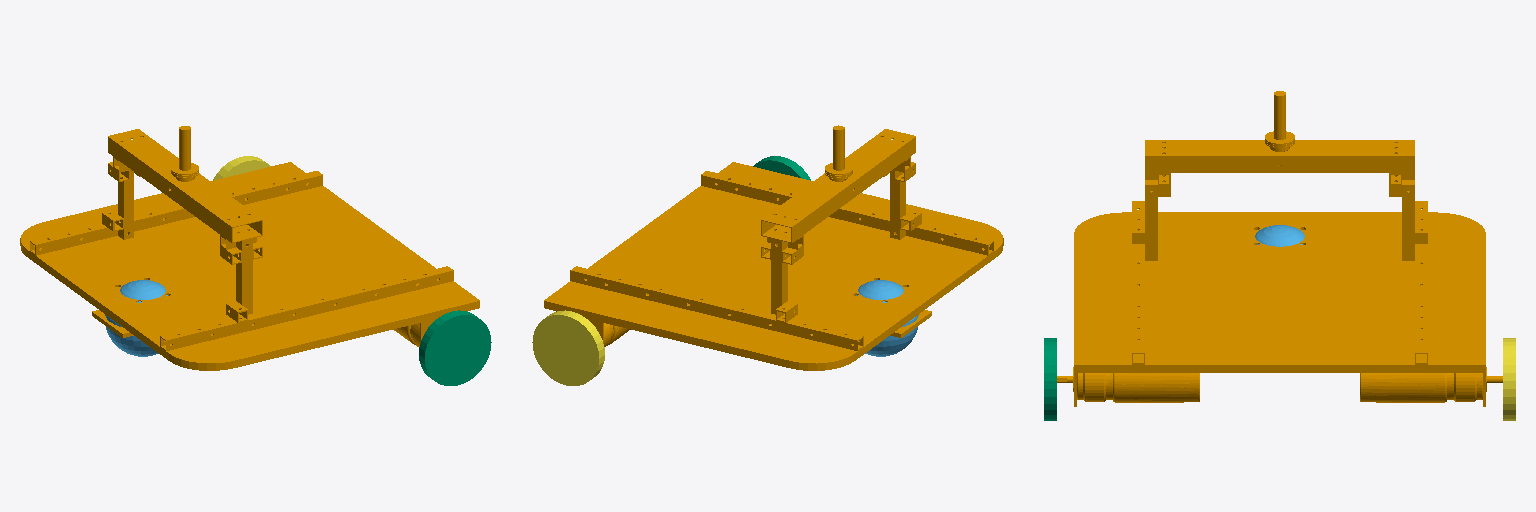
robot.urdf — icart_second:
<?xml version="1.0"?>
<robot name="icart_second">
  <!--visual&collision define-->
  <!--icart_body-->
  <link name="base_link_second">
    <visual>
      <geometry>
        <mesh filename="package://icart_description/mesh/DAE/i-Cart_body.dae"/>
      </geometry>
    </visual>

    <collision>
      <geometry>
        <mesh filename="package://icart_description/mesh/DAE/i-Cart_body.dae"/>
      </geometry>
    </collision>

    <inertial>
      <origin xyz="0 0 0"/>
      <mass value="0.000"/>
      <!--<inertia ixx="0.0020833333" ixy="0" ixz="0" iyy="0.0070833333" iyz="0" izz="0.0083333333"/>-->
      <inertia ixx="0" ixy="0" ixz="0" iyy="0" iyz="0" izz="0"/>
    </inertial>
  </link>

  <!--icart_caster-->
  <link name="caster_link_second">
    <visual>
      <geometry>
        <!--<mesh filename="package://icart_description/mesh/DAE/i-Cart_caster.dae"/>-->
        <sphere radius="0.0325"/>
      </geometry>
    </visual>

    <collision>
      <geometry>
        <mesh filename="package://icart_description/mesh/DAE/i-Cart_caster.dae"/>
      </geometry>
    </collision>

    <inertial>
      <origin xyz="0 0 0"/>
      <mass value="5.500"/>
      <inertia ixx="0.00025" ixy="0" ixz="0" iyy="0.00025"  iyz="0" izz="0.00025"/>
     </inertial>
  </link>

  <!--icart_right_wheel-->
  <link name="right_wheel_link_second">
    <visual>
      <geometry>
        <!--<mesh filename="package://icart_description/mesh/DAE/i-Cart_right_wheel.dae"/>-->
        <cylinder radius="0.0325" length="0.01"/>
      </geometry>
      <origin xyz="0 0 0" rpy="0 0 0"/>
      <material name="black"/>
    </visual>

    <collision>
      <geometry>
        <!--<mesh filename="package://icart_description/mesh/DAE/i-Cart_right_wheel.dae"/>-->
        <cylinder radius="0.0325" length="0.01"/>
      </geometry>
    </collision>

    <inertial>
      <origin xyz="0 0 0"/>
      <mass value="10.500"/>
      <inertia ixx="0.0013541667" ixy="0" ixz="0" iyy="0.0013541667" iyz="0" izz="0.0025"/>
   </inertial>
  </link>

  <!--icart_left_wheel-->
  <link name="left_wheel_link_second">
    <visual>
      <geometry>
        <!--<mesh filename="package://icart_description/mesh/DAE/i-Cart_left_wheel.dae"/>-->
        <cylinder radius="0.0325" length="0.01"/>
      </geometry>
      <origin xyz="0 0 0" rpy="0 0 0"/>
      <material name="black"/>
    </visual>

    <collision>
      <geometry>
        <!--<mesh filename="package://icart_description/mesh/DAE/i-Cart_left_wheel.dae"/>-->
        <cylinder radius="0.0325" length="0.01"/>
      </geometry>
    </collision>

    <inertial>
      <origin xyz="0 0 0"/>
      <mass value="10.500"/>
      <inertia ixx="0.0013541667" ixy="0" ixz="0" iyy="0.0013541667" iyz="0" izz="0.0025"/>
   </inertial>
  </link>

  <!-- Hokuyo Laser -->
  <link name="hokuyo_link_second">

    <!--
    <collision>
      <origin xyz="0 0 0" rpy="0 0 0"/>
      <geometry>
        <box size="0.1 0.1 0.1"/>
      </geometry>
    </collision>
  -->

    <visual>
      <origin xyz="0 0 0" rpy="0 0 3.14"/>
      <geometry>
        <mesh filename="package://rrbot_description/meshes/hokuyo.dae"/>
      </geometry>
    </visual>

    <inertial>
      <mass value="1e-5" />
      <origin xyz="0 0 0" rpy="0 0 3.14"/>
      <inertia ixx="1e-6" ixy="0" ixz="0" iyy="1e-6" iyz="0" izz="1e-6" />
    </inertial>
  </link>


  <!--joint define-->
  <!--base_link to caster-->
  <joint name="caster_joint_second" type="fixed">
    <parent link="base_link_second"/>
    <child link="caster_link_second"/>
    <origin xyz="-0.096 0 -0.019" rpy="0 0 0"/>
  </joint>

  <!--base_link to left_wheel-->
  <joint name="left_wheel_joint_second" type="continuous">
    <parent link="base_link_second"/>
    <child link="left_wheel_link_second"/>
    <origin xyz="0.105 0.178 -0.022" rpy="-1.5707 0 0"/>
    <axis xyz="0 0 1"/>
  </joint>

  <!--base_link to right_wheel-->
  <joint name="right_wheel_joint_second" type="continuous">
    <parent link="base_link_second"/>
    <child link="right_wheel_link_second"/>
    <origin xyz="0.105 -0.178 -0.022" rpy="1.5707 0 0"/>
    <axis xyz="0 0 -1"/>
  </joint>

  <!--base_link to hokuyo-->
  <joint name="hokuyo_joint_second" type="fixed">
    <axis xyz="0 0 0" />
    <origin xyz="0.105 0 0.135" rpy="0 0 0"/>
    <parent link="base_link_second"/>
    <child link="hokuyo_link_second"/>
  </joint>

  <!--define base_foot-->
  <!--
  <link name="base_footprint_second"/>
    <joint name="base_link_joint_second" type="fixed">
    <parent link="base_footprint_second"/>
    <child link="base_link_second"/>
    <origin xyz="-0.105 0 0.0545"/>
  </joint>
-->

  <!-- ===============  Transmission =============== -->

  <transmission name="left_wheel_trans">
      <type>transmission_interface/SimpleTransmission</type>
      <joint name="left_wheel_joint_second">
  <hardwareInterface>VelocityJointInterface</hardwareInterface>
      </joint>
   <actuator name="left_wheel_motor">
  <hardwareInterface>VelocityJointInterface</hardwareInterface>
  <mechanicalReduction>30</mechanicalReduction>
      </actuator>
 </transmission>

  <transmission name="right_wheel_trans">
       <type>transmission_interface/SimpleTransmission</type>
       <joint name="right_wheel_joint_second">
   <hardwareInterface>VelocityJointInterface</hardwareInterface>
       </joint>
    <actuator name="right_wheel_motor">
   <hardwareInterface>VelocityJointInterface</hardwareInterface>
   <mechanicalReduction>30</mechanicalReduction>
       </actuator>
  </transmission>



 <!-- =============== Gazebo =============== -->
  <gazebo>
    <plugin name="gazebo_ros_control" filename="libgazebo_ros_control.so">
      <robotNamespace>icart_second</robotNamespace>
      <robotParam>robot_description_second</robotParam>
    </plugin>
  </gazebo>

 <gazebo reference="base_link_second">
   <selfCollide>false</selfCollide>
    <mu1 value="0.05" />
    <mu2 value="0.05" />
  </gazebo>

 <gazebo reference="left_wheel_link_second">
   <selfCollide>true</selfCollide>
    <mu1 value="1.0" />
    <mu2 value="1.0" />
  </gazebo>

 <gazebo reference="right_wheel_link_second">
   <selfCollide>true</selfCollide>
    <mu1 value="1.0" />
    <mu2 value="1.0" />
  </gazebo>

 <gazebo reference="caster_link_second">
   <selfCollide>true</selfCollide>
     <!-- This caster is no frictional resistance. -->
    <mu1 value="0.0" />
    <mu2 value="0.0" />
  </gazebo>

  <!-- hokuyo -->
  <gazebo reference="hokuyo_link_second">
    <sensor type="ray" name="head_hokuyo_sensor">
      <pose>0 0 0 0 0 0</pose>
      <visualize>false</visualize>
      <update_rate>10</update_rate>
      <ray>
        <scan>
          <horizontal>
            <samples>720</samples>
            <resolution>1</resolution>
            <min_angle>-2.0944</min_angle>
            <max_angle>2.0944</max_angle>
          </horizontal>
        </scan>
        <range>
          <min>0.8</min>
          <max>5.6</max>
          <resolution>0.36</resolution>
        </range>
        <noise>
          <type>gaussian</type>
          <!-- Noise parameters based on published spec for Hokuyo laser
               achieving "+-30mm" accuracy at range < 10m.  A mean of 0.0m and
               stddev of 0.01m will put 99.7% of samples within 0.03m of the true
               reading. -->
          <mean>0.0</mean>
          <stddev>0.01</stddev>
        </noise>
      </ray>
      <plugin name="gazebo_ros_head_hokuyo_controller" filename="libgazebo_ros_laser.so">
        <topicName>/icart_second/laser/scan</topicName>
        <frameName>hokuyo_link_second</frameName>
      </plugin>
    </sensor>
  </gazebo>

  <!-- ground_truth_position -->
  <gazebo>
    <plugin name="p3d_base_controller" filename="libgazebo_ros_p3d.so">
     <alwaysOn>true</alwaysOn>
     <updateRate>100.0</updateRate>
     <bodyName>base_link_second</bodyName>
     <topicName>/icart_second/pose_ground_truth</topicName>
     <gaussianNoise>0</gaussianNoise>
     <frameName>map</frameName>
     <xyzOffsets>0 0 0</xyzOffsets>
     <rpyOffsets>0 0 0</rpyOffsets>
   </plugin>
 </gazebo>
</robot>

--- Facts derived from the render (not from the file) ---
Views: 3 orthographic renders of the robot side by side, from view 1: azimuth 30°, elevation 25°; view 2: azimuth 150°, elevation 25°; view 3: azimuth 270°, elevation 25°.
Robot: icart_second — 5 links, 4 joints (2 continuous, 2 fixed); root link base_link_second; default pose: every joint at zero.
Links seen in each view (by area): view 1: base_link_second, right_wheel_link_second, caster_link_second, left_wheel_link_second; view 2: base_link_second, left_wheel_link_second, caster_link_second, right_wheel_link_second; view 3: base_link_second, right_wheel_link_second, left_wheel_link_second, caster_link_second.
Link boxes in pixels (x1=…): base_link_second: x1=20, y1=126, x2=479, y2=370; right_wheel_link_second: x1=419, y1=310, x2=491, y2=385; caster_link_second: x1=105, y1=280, x2=167, y2=356; left_wheel_link_second: x1=213, y1=156, x2=270, y2=180; base_link_second: x1=544, y1=125, x2=1003, y2=370; left_wheel_link_second: x1=532, y1=310, x2=604, y2=385; caster_link_second: x1=856, y1=280, x2=918, y2=356; right_wheel_link_second: x1=753, y1=156, x2=810, y2=180; base_link_second: x1=1057, y1=91, x2=1502, y2=406; right_wheel_link_second: x1=1044, y1=338, x2=1056, y2=420; left_wheel_link_second: x1=1503, y1=338, x2=1515, y2=420; caster_link_second: x1=1255, y1=225, x2=1304, y2=246.
Size in the robot's own frame: 0.28 by 0.366 by 0.203 metres.
1 mesh visuals loaded from 2 distinct referenced files (1 Collada DAE); not drawn: 1 (reference not matched to a file when rendering).
